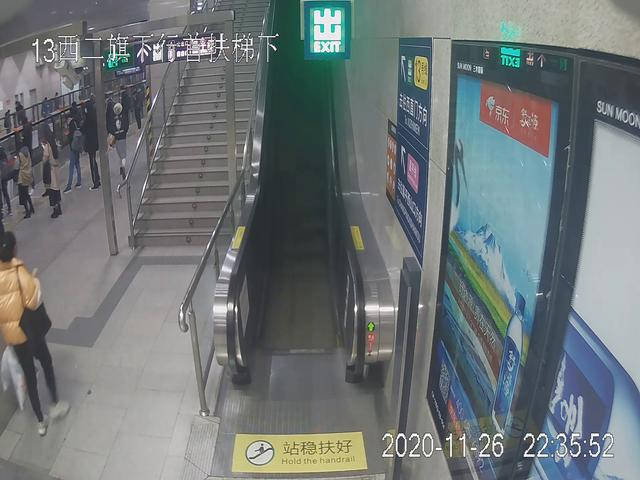person: (1, 229, 76, 418), (39, 125, 63, 218), (13, 135, 37, 220), (110, 101, 131, 188), (63, 106, 83, 197)
